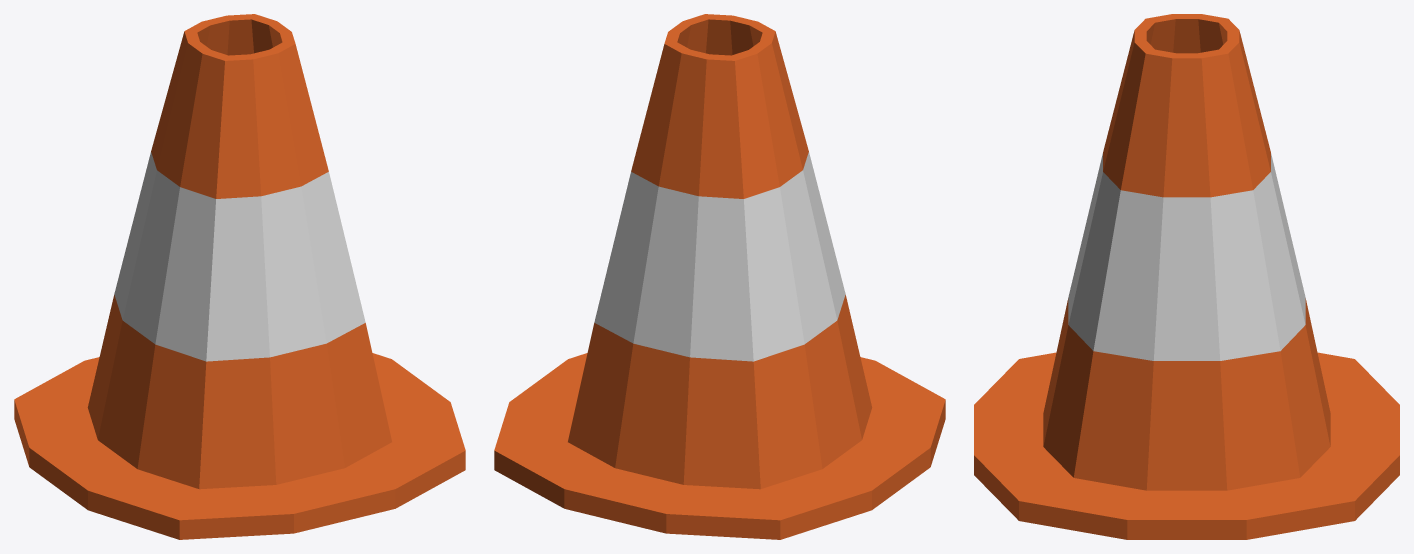
The picture shows the model from 3 angles, left to right: view 1: azimuth 30°, elevation 25°; view 2: azimuth 150°, elevation 25°; view 3: azimuth 270°, elevation 25°; orthographic projection.
Parts seen in each view (by area): view 1: G-5; view 2: G-5; view 3: G-5.
Boxes of the visible parts, <box> form: G-5: <box>14,14,465,539</box>; G-5: <box>494,14,945,539</box>; G-5: <box>974,14,1399,539</box>.
Bounding box in the file's own units: 64.08 × 68.75 × 64.08.
